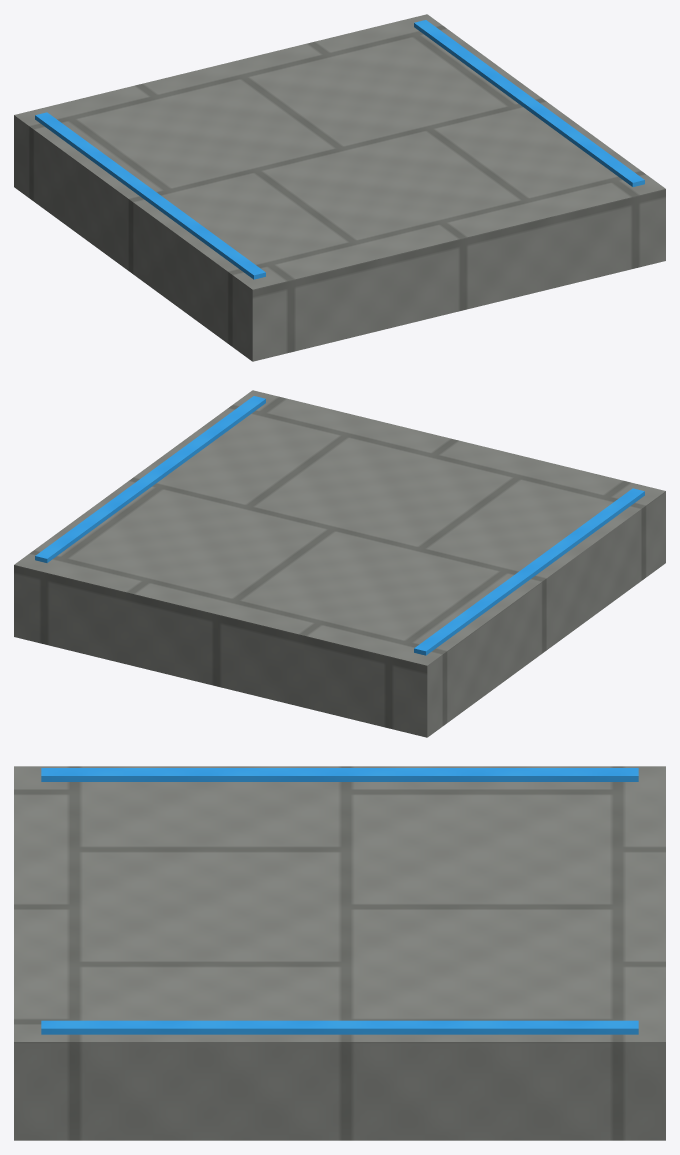
File: moving_platform.obj
The picture shows the model from 3 angles, top to bottom: view 1: azimuth 30°, elevation 25°; view 2: azimuth 150°, elevation 25°; view 3: azimuth 270°, elevation 25°; orthographic projection. The views are drawn at different scales.
Visible parts, largest first — view 1: moving_platform; view 2: moving_platform; view 3: moving_platform.
Part boxes in pixels (x1,y1,x2,y2): moving_platform: [14, 14, 665, 361]; moving_platform: [14, 390, 665, 737]; moving_platform: [14, 766, 665, 1140].
Size of the model in its own units: 2.4 by 0.424 by 2.4.
Materials: 2 (2 with a texture image).
